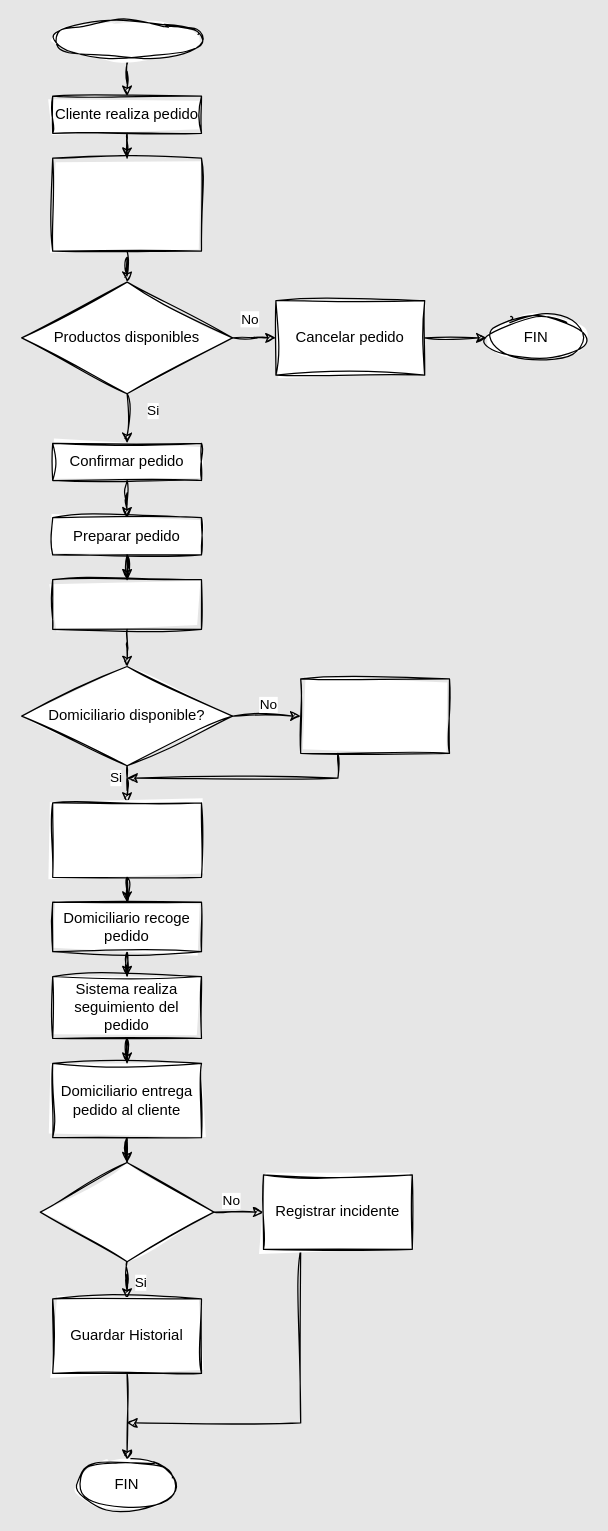
Image size: 608x1531. Some labels were removed from this diagram. Here are the shapes that lost their labels. From the top down, the centre of each, then its label:
the point at 126,39: INICIO
the point at 126,204: Sistema registra datos del pedido (Cliente,dirección, productos, método de pago)
the point at 126,603: Sistema busca domiciliario disponible
the point at 374,715: Esperar
the point at 126,839: Asignar domicilio
the point at 126,1211: Entrega confirmada?
